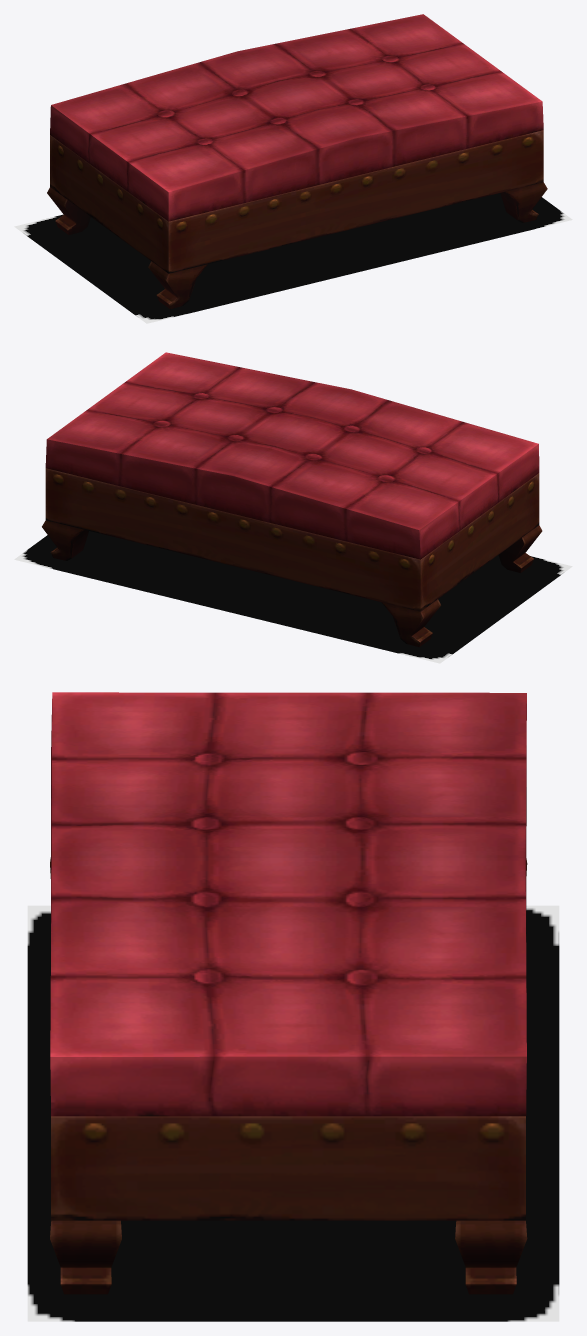
File: jj_ty_shafa03.FBX
3 renders of one model, top to bottom at view 1: azimuth 30°, elevation 25°; view 2: azimuth 150°, elevation 25°; view 3: azimuth 270°, elevation 25°, orthographic. The views are drawn at different scales.
Visible parts, largest first — view 1: jj_ty_shafa03, shadow; view 2: jj_ty_shafa03, shadow; view 3: jj_ty_shafa03, shadow.
Boxes of the visible parts, x1,y1,x2,y2 form: jj_ty_shafa03: (47,14,547,309); shadow: (14,193,572,323); jj_ty_shafa03: (42,352,542,647); shadow: (14,531,572,663); jj_ty_shafa03: (50,692,527,1294); shadow: (27,905,559,1321).
Size of the model in its own units: 234 by 68.64 by 126.
